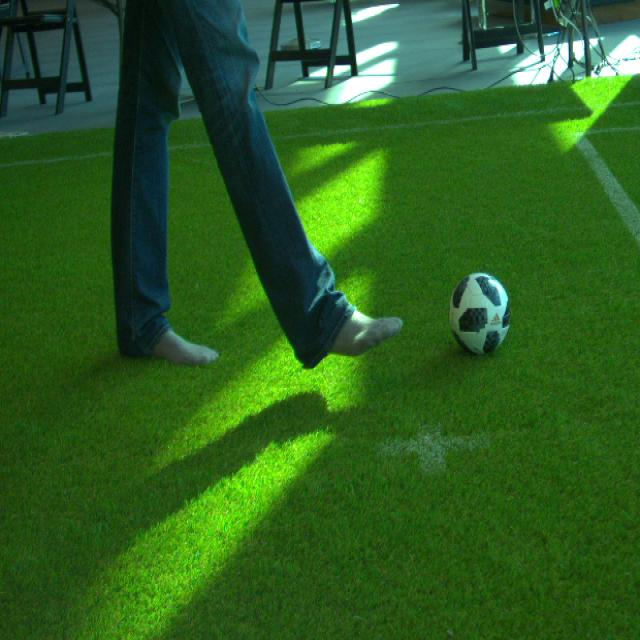ball: (448, 272, 512, 357)
